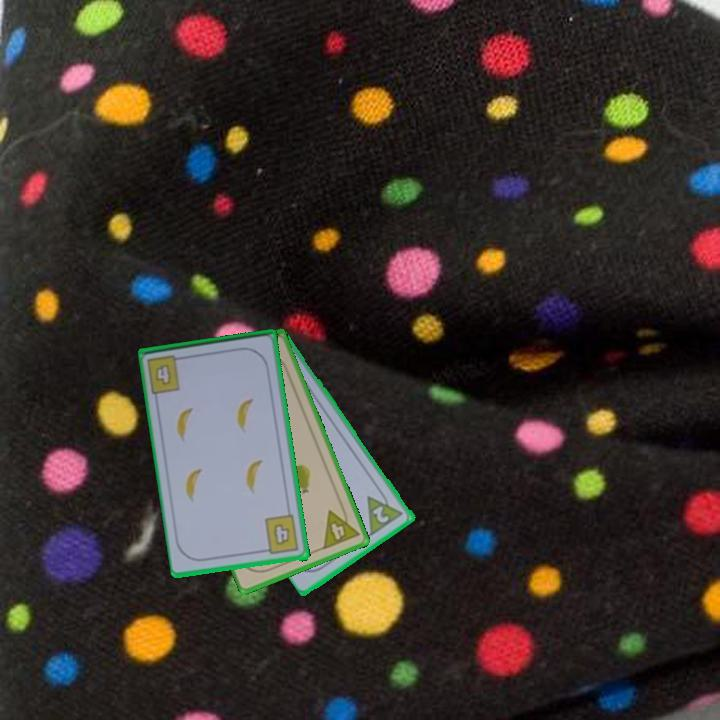2p: (363, 485, 407, 538)
4b: (259, 512, 302, 558), (152, 363, 175, 388)
4p: (320, 502, 362, 552)
